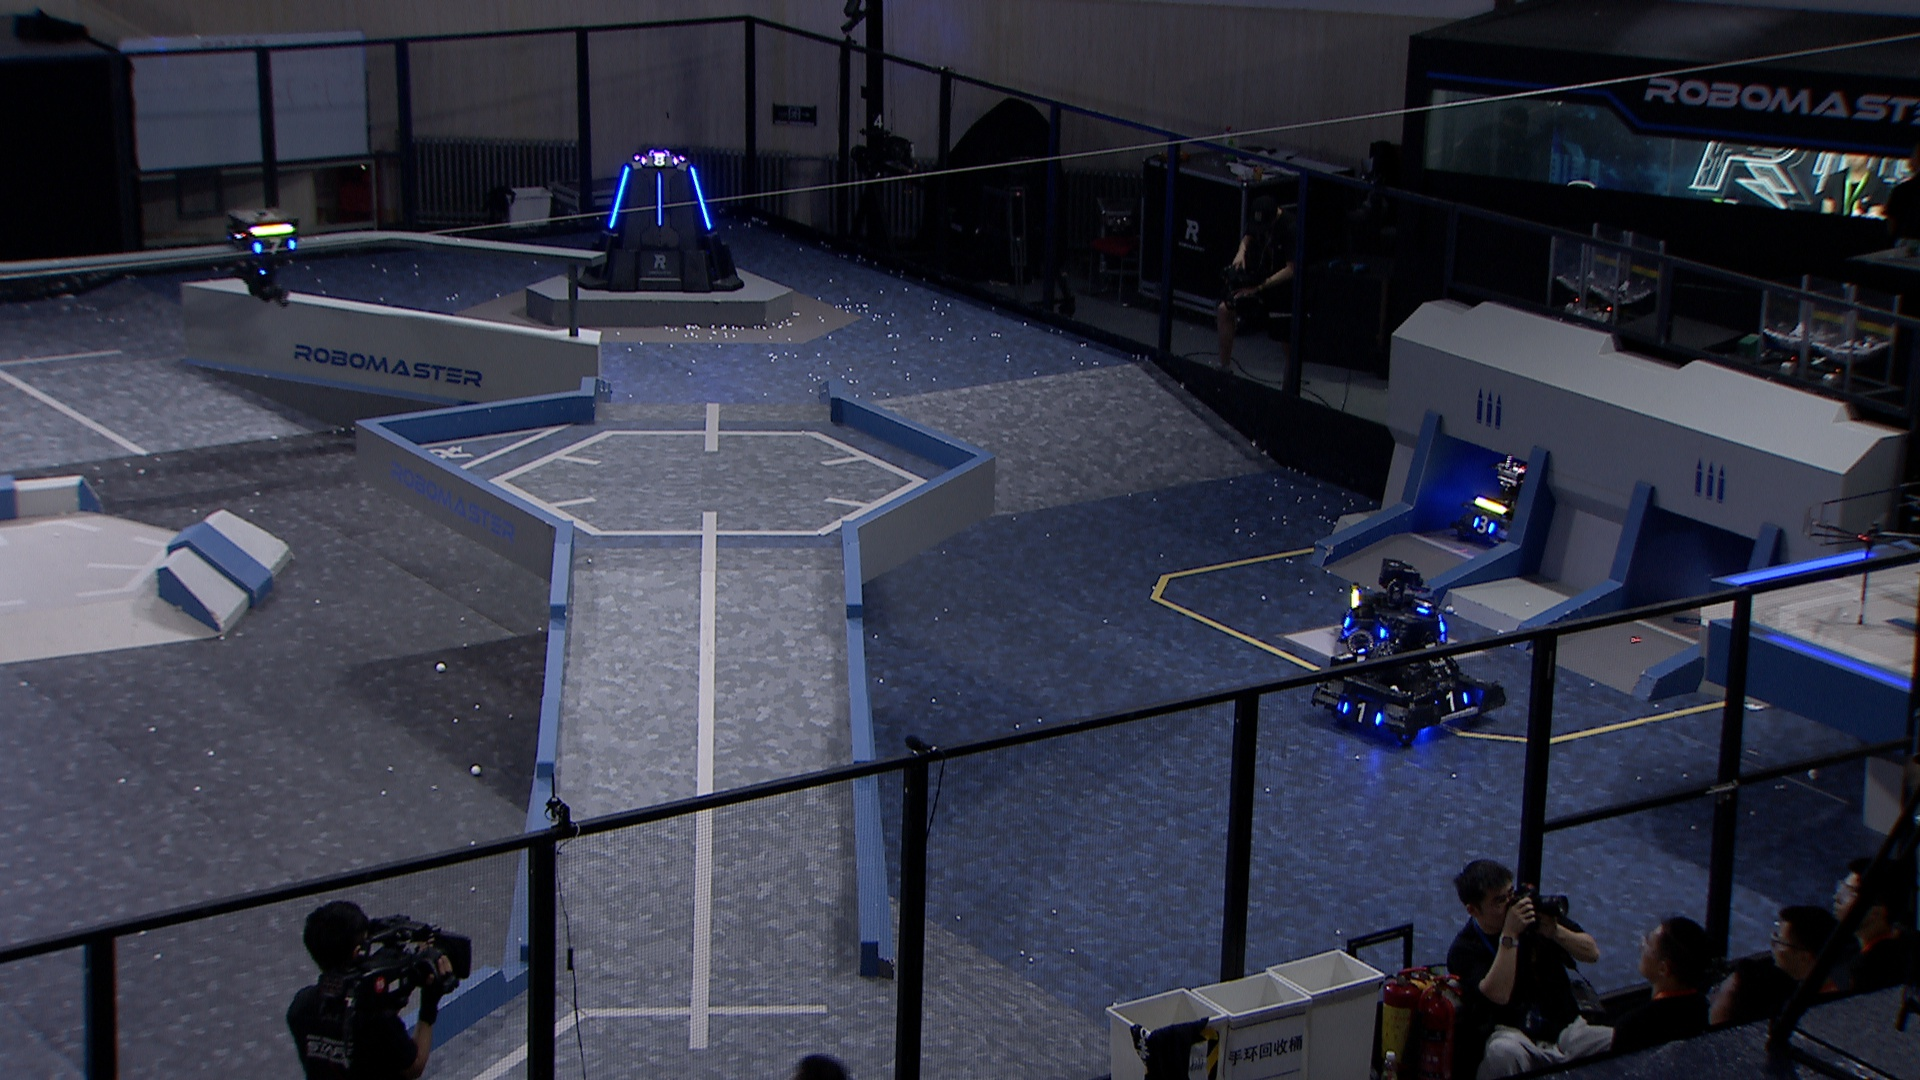armor: (605, 164, 632, 232), (688, 167, 713, 232), (1340, 700, 1385, 728), (252, 237, 299, 257), (1433, 690, 1472, 713), (1468, 514, 1495, 538), (655, 171, 665, 225), (1411, 597, 1433, 617)
base: (564, 146, 744, 295)
car: (1311, 608, 1505, 746), (1335, 555, 1460, 655), (1456, 462, 1557, 546)
ignore: (637, 153, 680, 169)
watcher: (224, 204, 306, 306)
